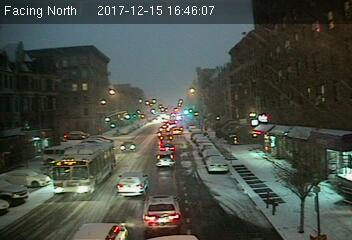bus: (53, 140, 115, 196)
car: (143, 196, 180, 232), (115, 171, 150, 196), (155, 151, 175, 168), (119, 141, 137, 152), (159, 142, 175, 151)
